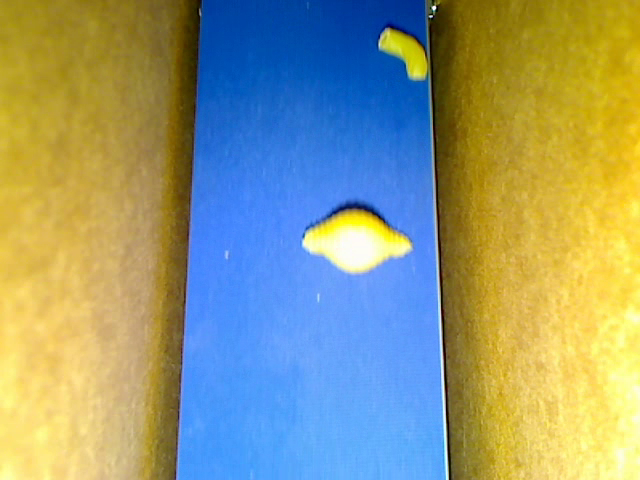elbow: (378, 27, 427, 80)
shell: (301, 208, 412, 274)
